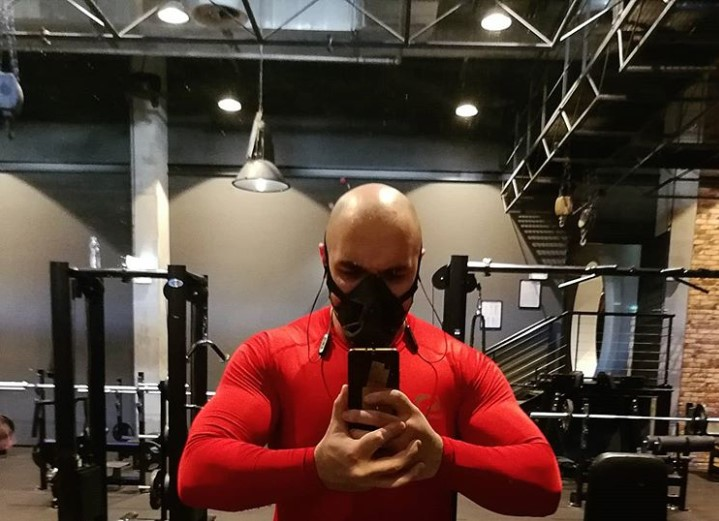face_with_mask: (322, 181, 426, 351)
